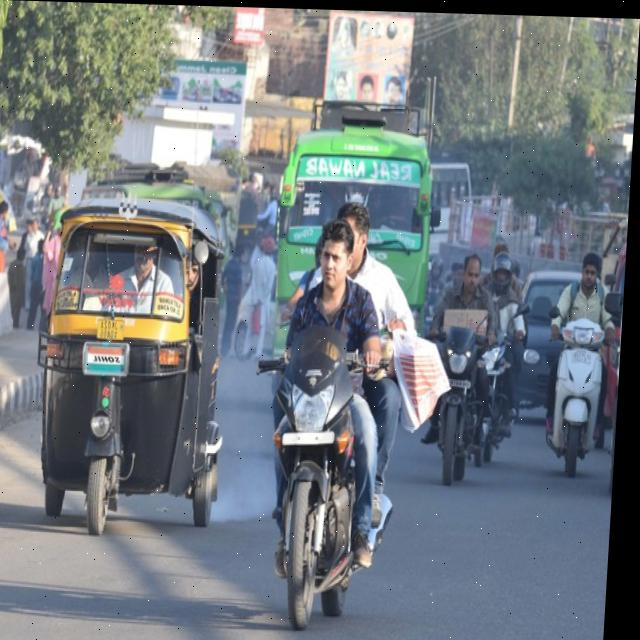without helmet: (311, 209, 360, 306)
